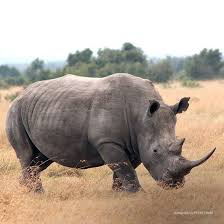Rhinoceros: (3, 65, 223, 196)
